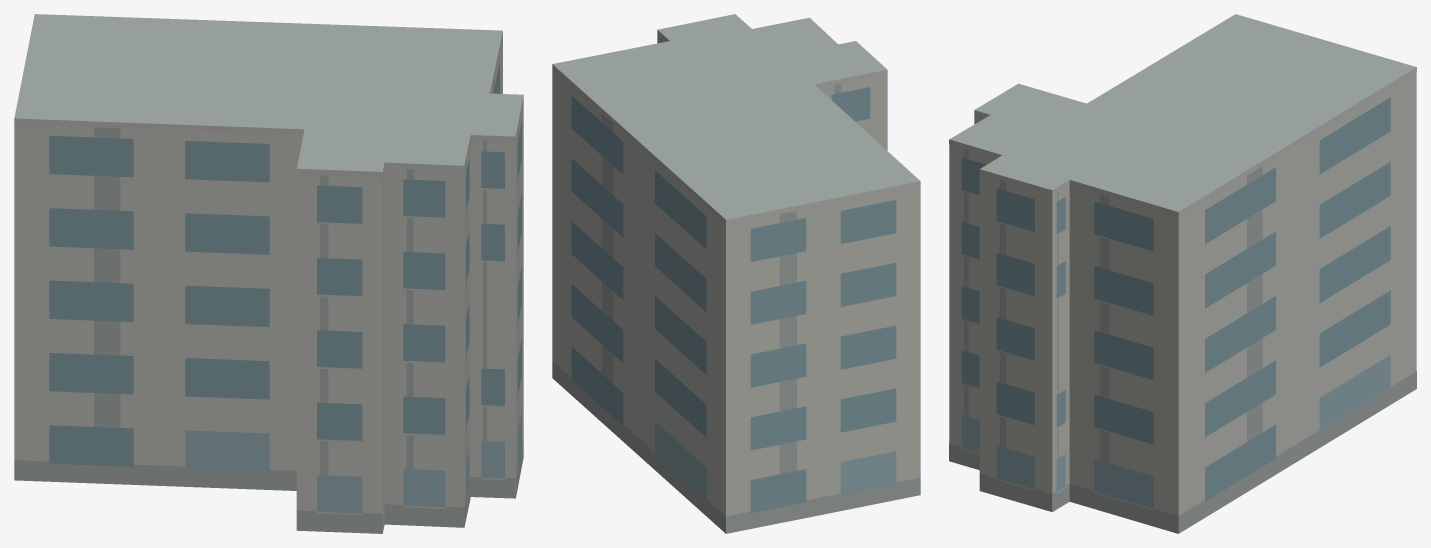
Rendered from survey-upis-32761591.glb.
The picture shows the model from 3 angles, left to right: view 1: azimuth 30°, elevation 25°; view 2: azimuth 150°, elevation 25°; view 3: azimuth 270°, elevation 25°; orthographic projection. The views are drawn at different scales.
Parts seen in each view (by area): view 1: survey-upis-32761591.tmp; view 2: survey-upis-32761591.tmp; view 3: survey-upis-32761591.tmp.
Boxes of the visible parts, x1=… form: survey-upis-32761591.tmp: x1=14, y1=14, x2=523, y2=533; survey-upis-32761591.tmp: x1=552, y1=14, x2=920, y2=533; survey-upis-32761591.tmp: x1=949, y1=14, x2=1416, y2=533.
Size of the model in its own units: 20.14 by 15.25 by 20.09.
